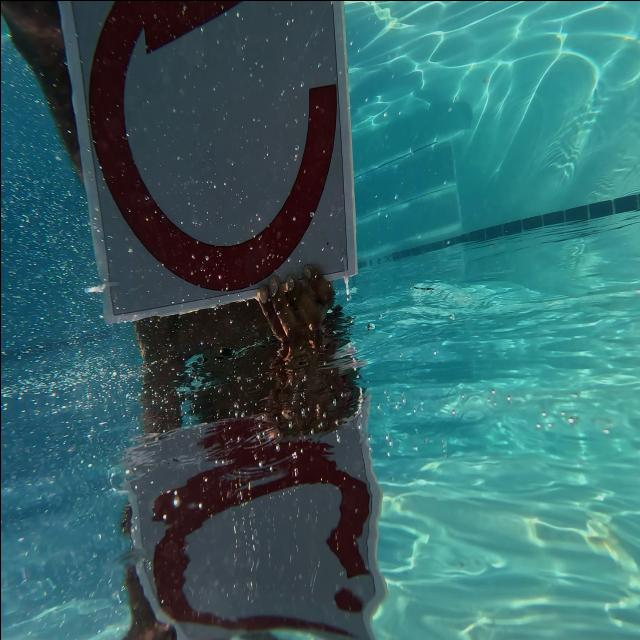red_side: (69, 0, 359, 290)
